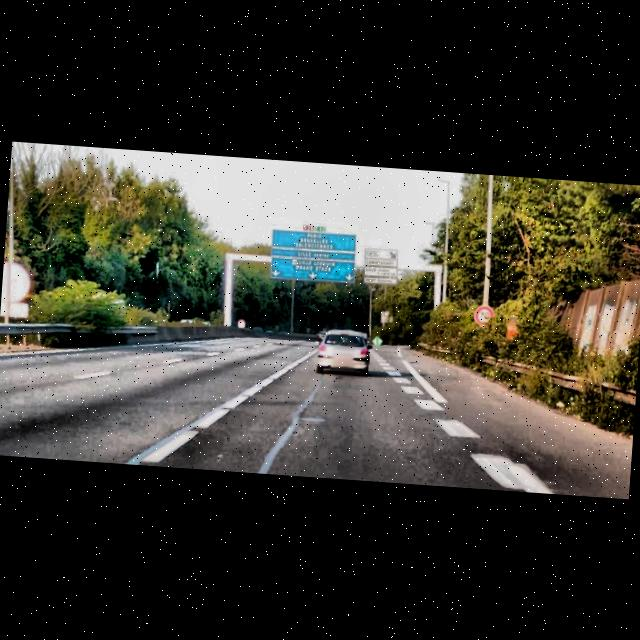speed_70: (475, 306, 493, 323)
